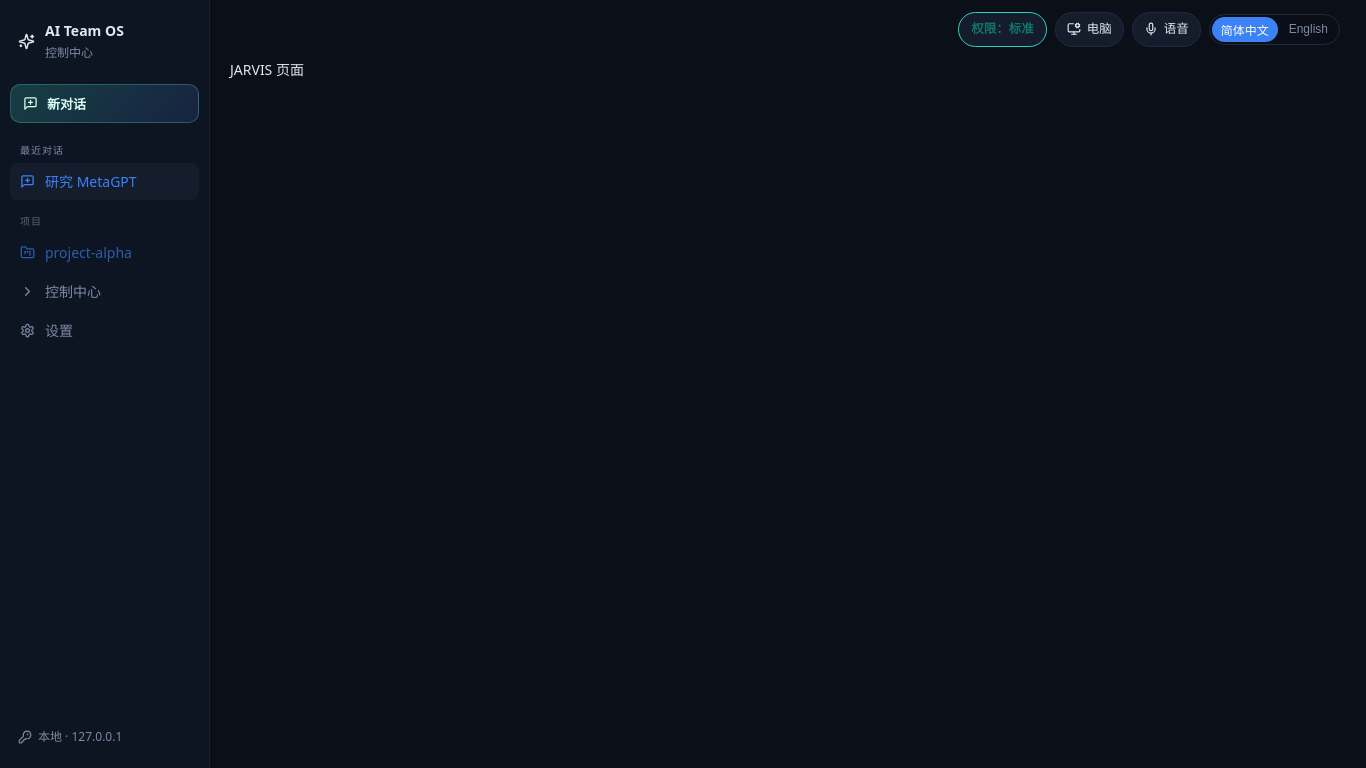
Test: NAV · 三栏信息架构 › NAV04: Control Center 收纳 Tasks/Agents/Approvals/Evidence/Usage/Memory/Tools/Logs
The image size is (1366, 768).
Expected: the button "新对话" is shown, [10,84,199,123]
Expected: the text "任务" is not shown
Click the button "控制中心" at (104, 292), box [10,273,199,310]
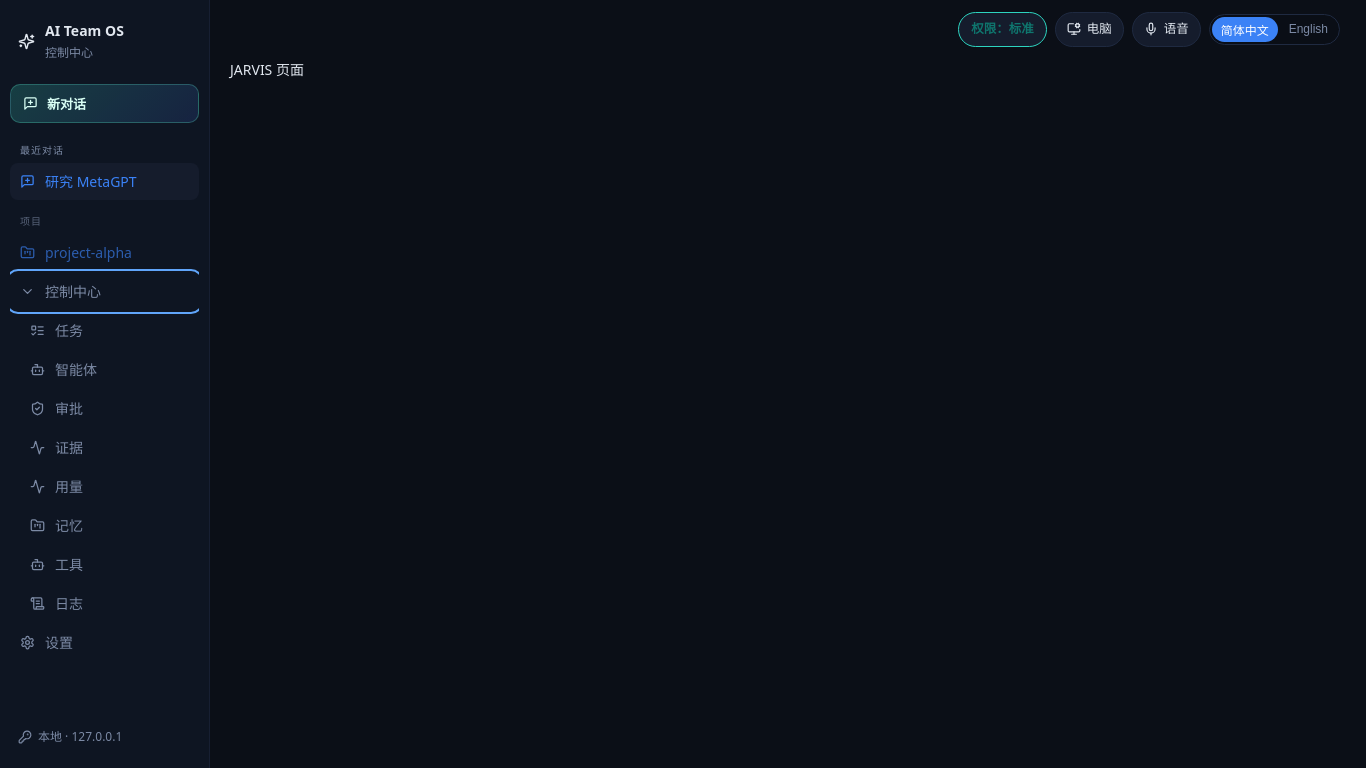
Now the button "控制中心" is expanded, box [10,273,199,310]
Now the text "任务" is shown, box [55,320,83,341]
Now the text "智能体" is shown, box [55,359,97,380]
